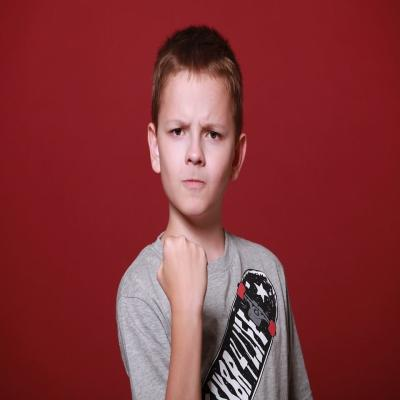angry: (144, 46, 250, 219)
